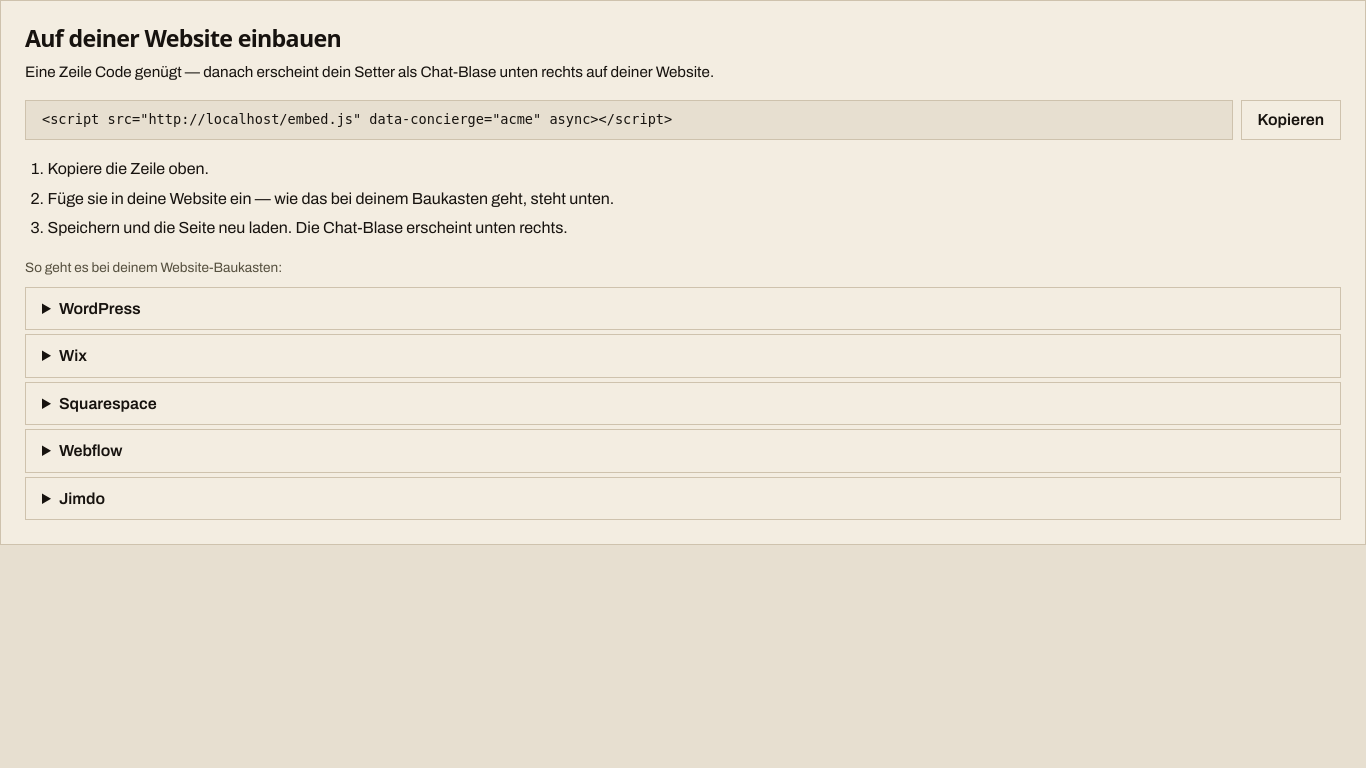
Test: ConciergeEmbedSection › copies the snippet to the clipboard and confirms with "Kopiert!"
Click the button "Kopieren": {"x": 1291, "y": 120} top-left (1240, 100), bottom-right (1341, 140)
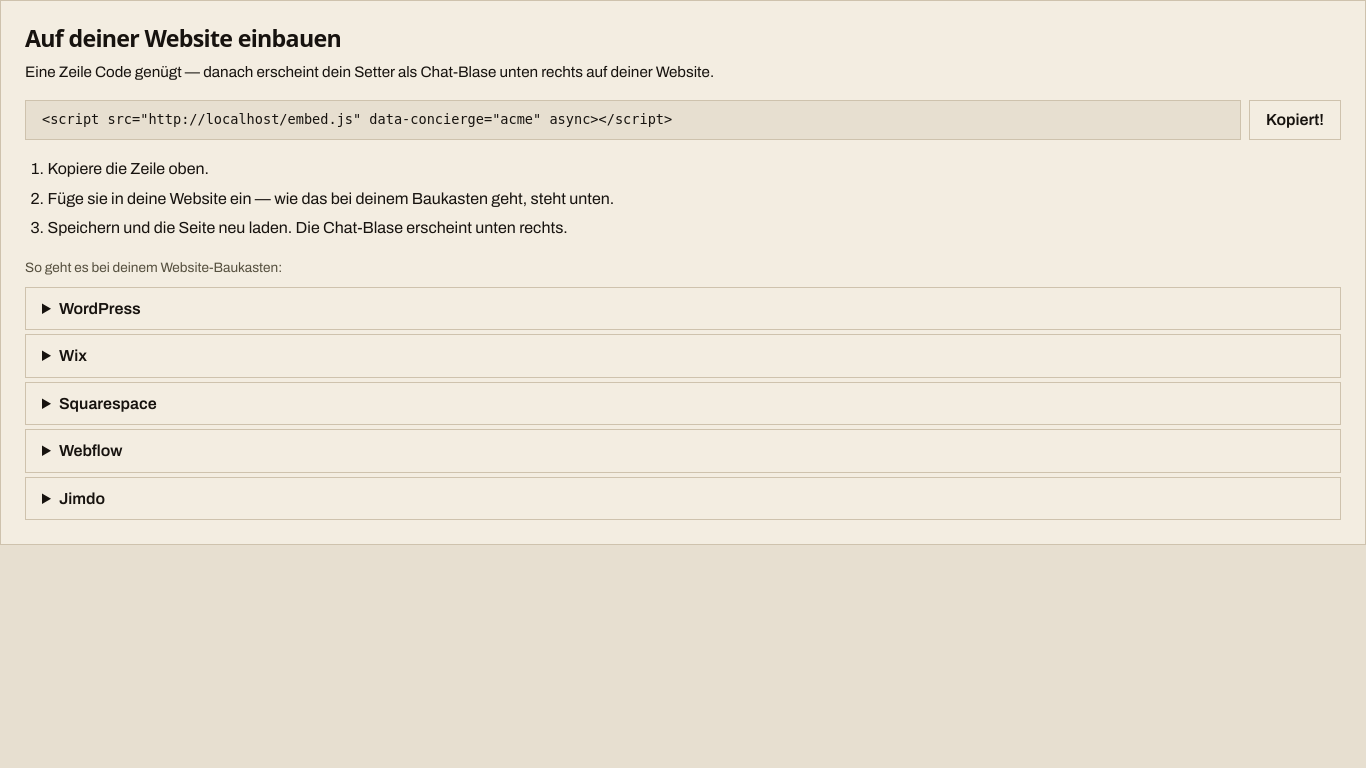
Check: the button "Kopiert!" is shown, box top-left (1249, 100), bottom-right (1341, 140)
